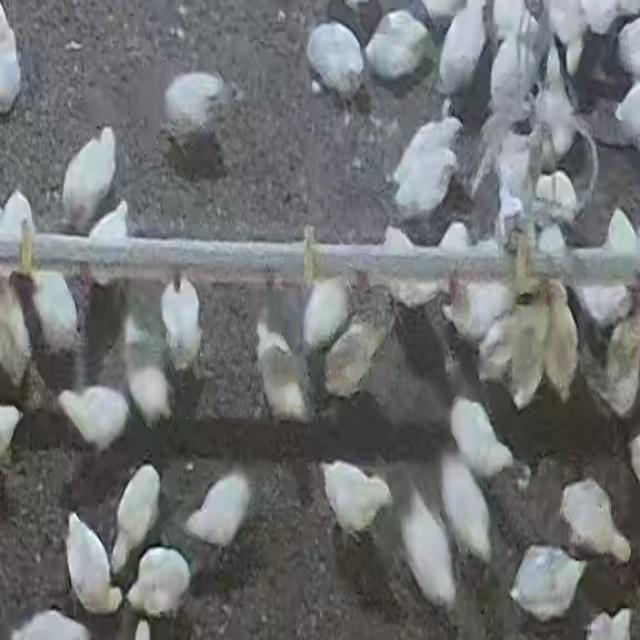chicken: (397, 486, 458, 606), (390, 116, 461, 218), (558, 477, 632, 566), (438, 451, 492, 564), (508, 544, 586, 622), (253, 312, 308, 422), (110, 462, 162, 574), (447, 396, 514, 482), (62, 126, 116, 229), (60, 510, 114, 612), (534, 45, 580, 163), (436, 1, 488, 100), (56, 385, 130, 454), (324, 317, 386, 399), (597, 304, 640, 422), (125, 544, 196, 614), (365, 10, 431, 84), (544, 278, 580, 404), (322, 456, 383, 530), (189, 471, 250, 545), (31, 265, 80, 357), (302, 23, 368, 91), (160, 274, 203, 374), (448, 278, 511, 346), (86, 200, 134, 284), (302, 270, 349, 353), (162, 71, 226, 131), (493, 37, 536, 123), (123, 362, 173, 432)
